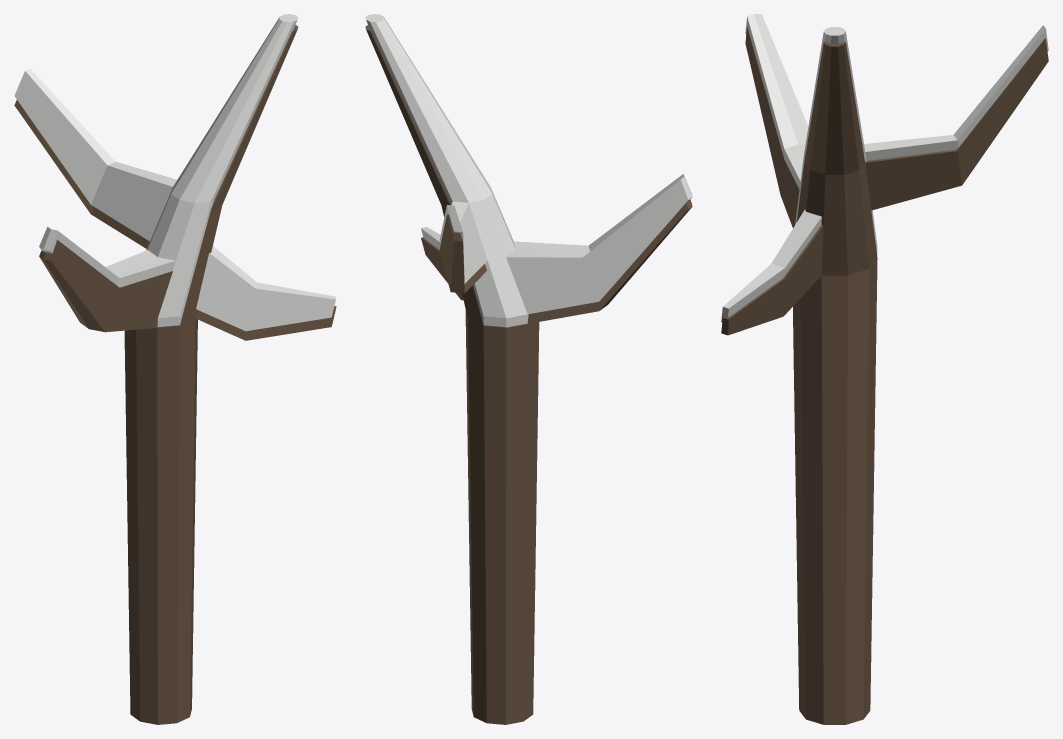
Rendered from WinterTree.gltf.
3 renders of one model, left to right at view 1: azimuth 30°, elevation 25°; view 2: azimuth 150°, elevation 25°; view 3: azimuth 270°, elevation 25°, orthographic. The views are drawn at different scales.
Visible parts, largest first — view 1: Tree, SnowTree; view 2: Tree, SnowTree; view 3: Tree, SnowTree.
Part boxes in pixels (x1=…): Tree: x1=14, y1=25, x2=336, y2=724; SnowTree: x1=14, y1=14, x2=336, y2=331; Tree: x1=365, y1=25, x2=692, y2=724; SnowTree: x1=365, y1=14, x2=692, y2=327; Tree: x1=721, y1=27, x2=1048, y2=724; SnowTree: x1=721, y1=14, x2=1048, y2=322.
Bounding box in the file's own units: 1.19 × 2.61 × 1.03.
